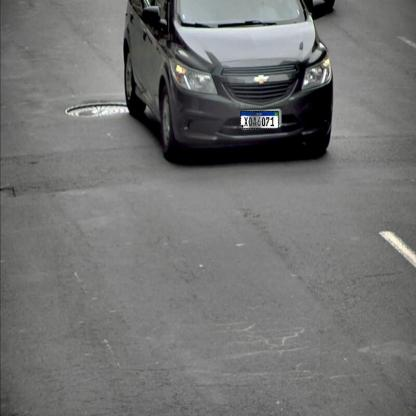PlacaM: (240, 111, 279, 129)
